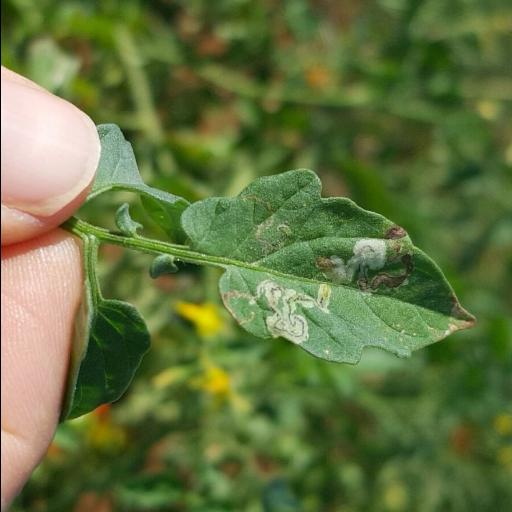disease_tomato: (176, 167, 479, 366)
